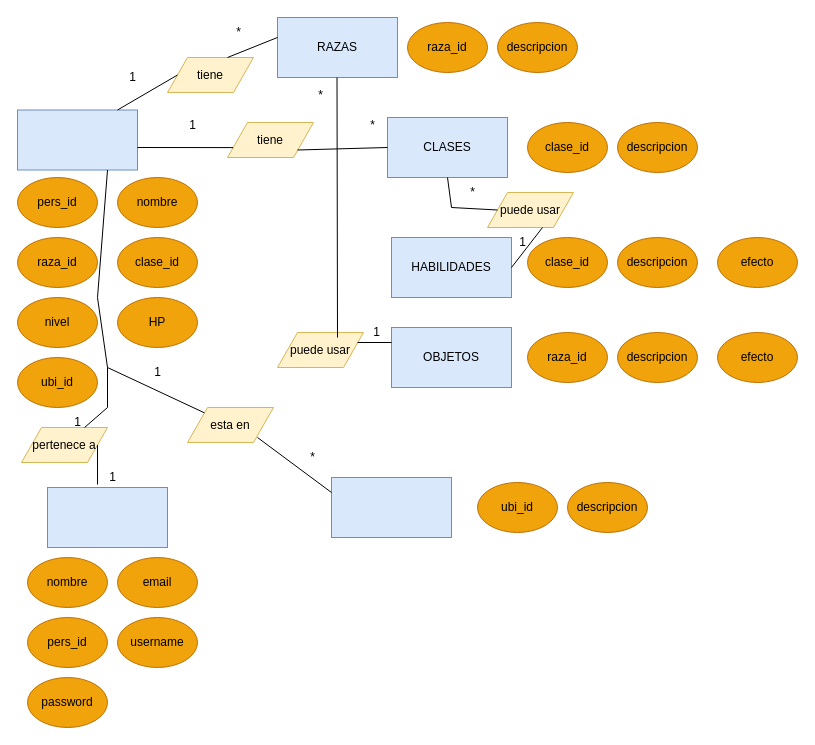
Image size: 815x745. Some labels were removed from this diagram. Here are the shapes that lost their labels. From the top down, the centre of each, then its label:
At (x=77, y=139): "PERSONAJES".
At (x=107, y=517): "USUARIOS".
At (x=391, y=507): "UBICACIONES".
